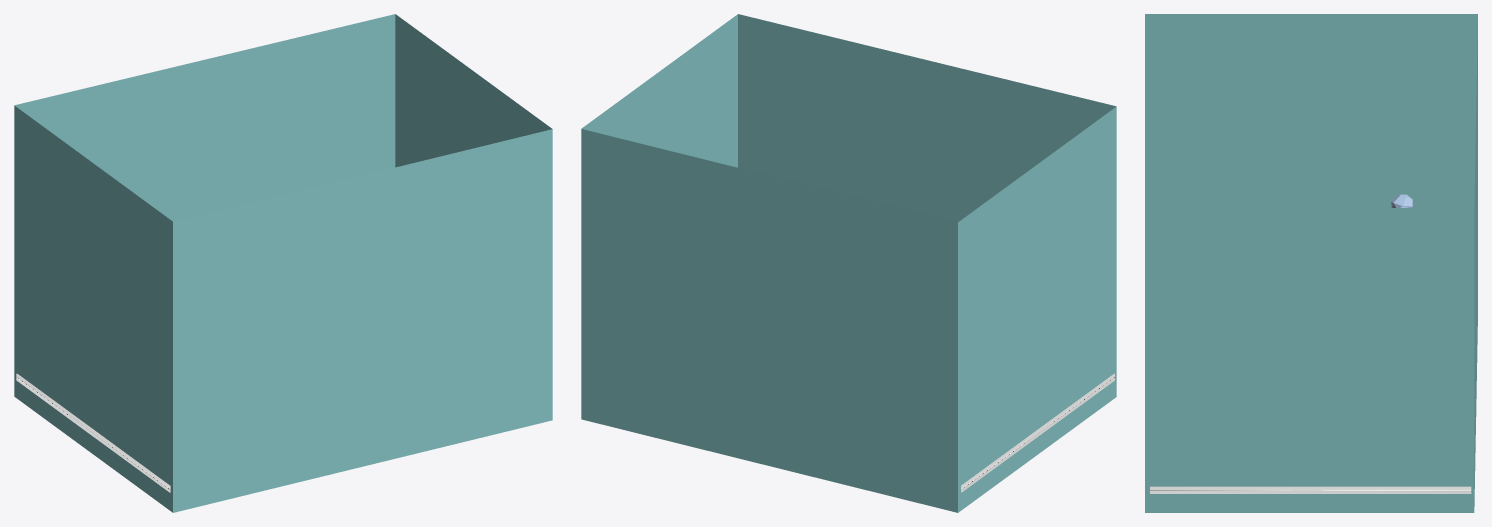
Rendered from Envio Dani.fbx.
The picture shows the model from 3 angles, left to right: view 1: azimuth 30°, elevation 25°; view 2: azimuth 150°, elevation 25°; view 3: azimuth 270°, elevation 25°; orthographic projection. The views are drawn at different scales.
Parts seen in each view (by area): view 1: Plane.001, Liquid Domain; view 2: Plane.001, Liquid Domain; view 3: Plane.001, Liquid Domain.
Boxes of the visible parts, bbox=[...] form: Plane.001: bbox=[14, 14, 552, 512]; Liquid Domain: bbox=[16, 373, 170, 492]; Plane.001: bbox=[581, 14, 1116, 512]; Liquid Domain: bbox=[961, 373, 1114, 492]; Plane.001: bbox=[1145, 14, 1477, 512]; Liquid Domain: bbox=[1150, 486, 1471, 493].
Size of the model in its own units: 23882 by 17427 by 17242.
